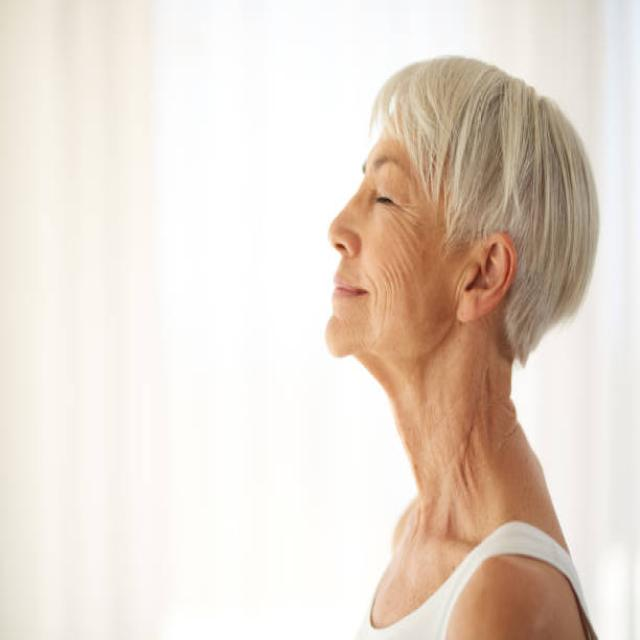Dry-Skin: (368, 208, 440, 330)
